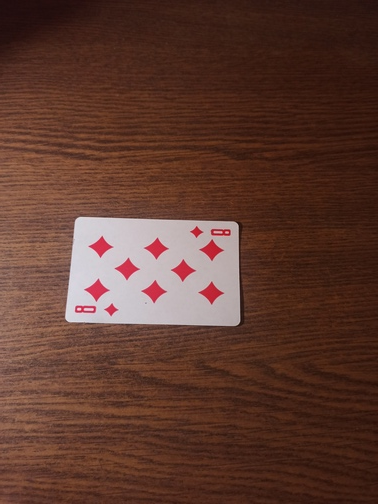eightdiamonds: (64, 216, 245, 329)
